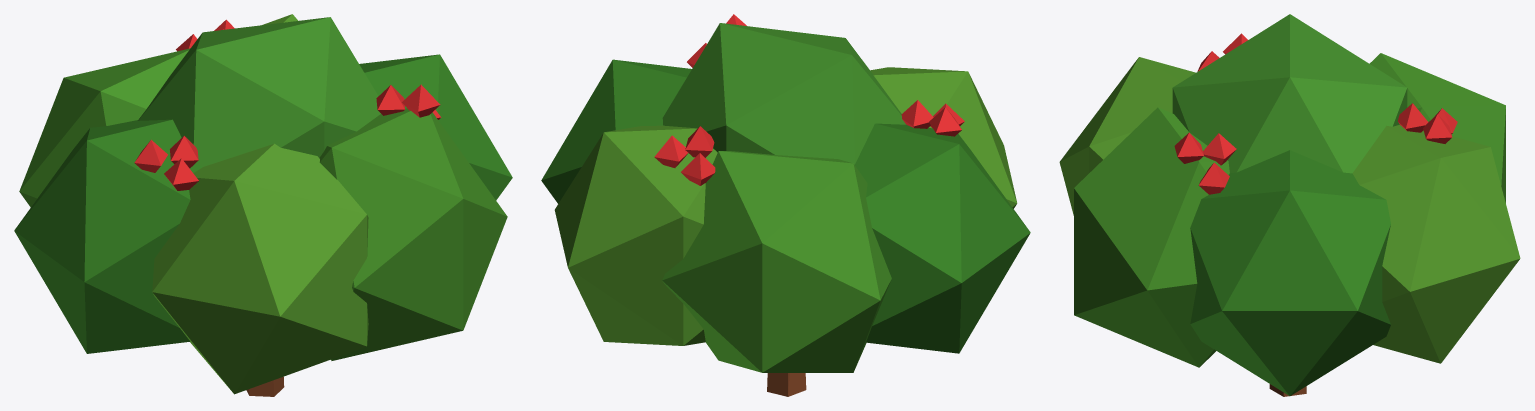
The model's file is bush_b.glb.
The picture shows the model from 3 angles, left to right: view 1: azimuth 30°, elevation 25°; view 2: azimuth 150°, elevation 25°; view 3: azimuth 270°, elevation 25°; orthographic projection. The views are drawn at different scales.
Parts seen in each view (by area): view 1: Seven lobed faceted canopy, Nine red berries in three clusters, Short branching stems; view 2: Seven lobed faceted canopy, Nine red berries in three clusters, Short branching stems; view 3: Seven lobed faceted canopy, Nine red berries in three clusters.
Boxes of the visible parts, box(x1,y1,x2,y2) form: Seven lobed faceted canopy: box(14, 14, 512, 394); Nine red berries in three clusters: box(134, 19, 441, 190); Short branching stems: box(246, 376, 284, 396); Seven lobed faceted canopy: box(541, 23, 1030, 372); Nine red berries in three clusters: box(654, 14, 964, 185); Short branching stems: box(767, 373, 806, 396); Seven lobed faceted canopy: box(1059, 14, 1520, 395); Nine red berries in three clusters: box(1174, 33, 1457, 194).
Size of the model in its own units: 0.63 by 0.5 by 0.6088.
